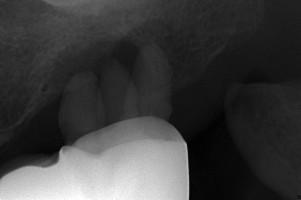Dental Caries: (47, 18, 180, 96)
